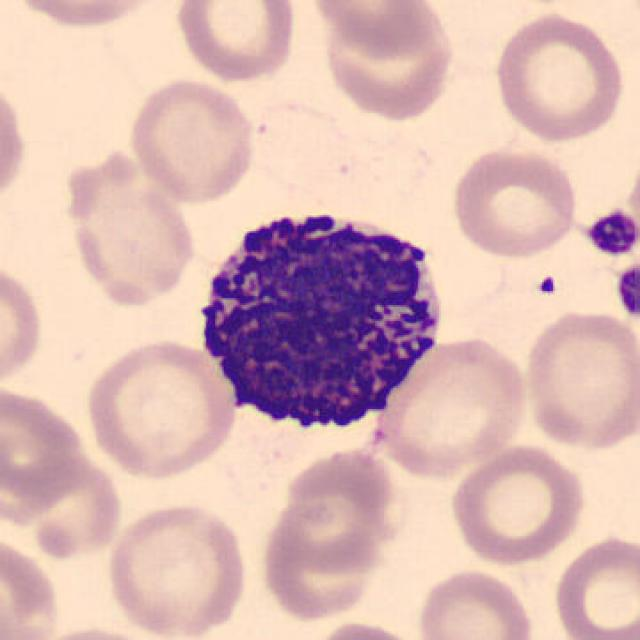Basophil: (187, 192, 453, 446)
Platelets: (583, 208, 640, 259), (611, 263, 640, 321), (533, 273, 560, 298)
RBC: (254, 443, 407, 624), (369, 332, 532, 479), (57, 143, 199, 310), (80, 335, 240, 481), (103, 499, 251, 640), (490, 9, 628, 144), (446, 440, 588, 568), (124, 74, 260, 206), (314, 3, 458, 124), (519, 307, 638, 453), (448, 143, 581, 261), (2, 448, 128, 564), (0, 379, 89, 522), (170, 0, 300, 85), (549, 530, 638, 640), (414, 566, 539, 640), (304, 0, 444, 58), (0, 530, 64, 640), (0, 257, 46, 393), (7, 0, 171, 32), (0, 72, 30, 212), (306, 617, 428, 640), (29, 624, 167, 640), (626, 139, 640, 252)
